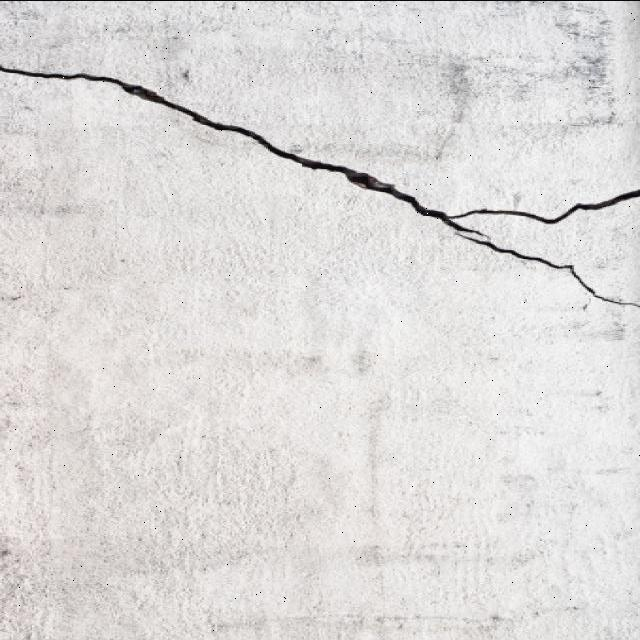crack: (0, 53, 639, 314)
